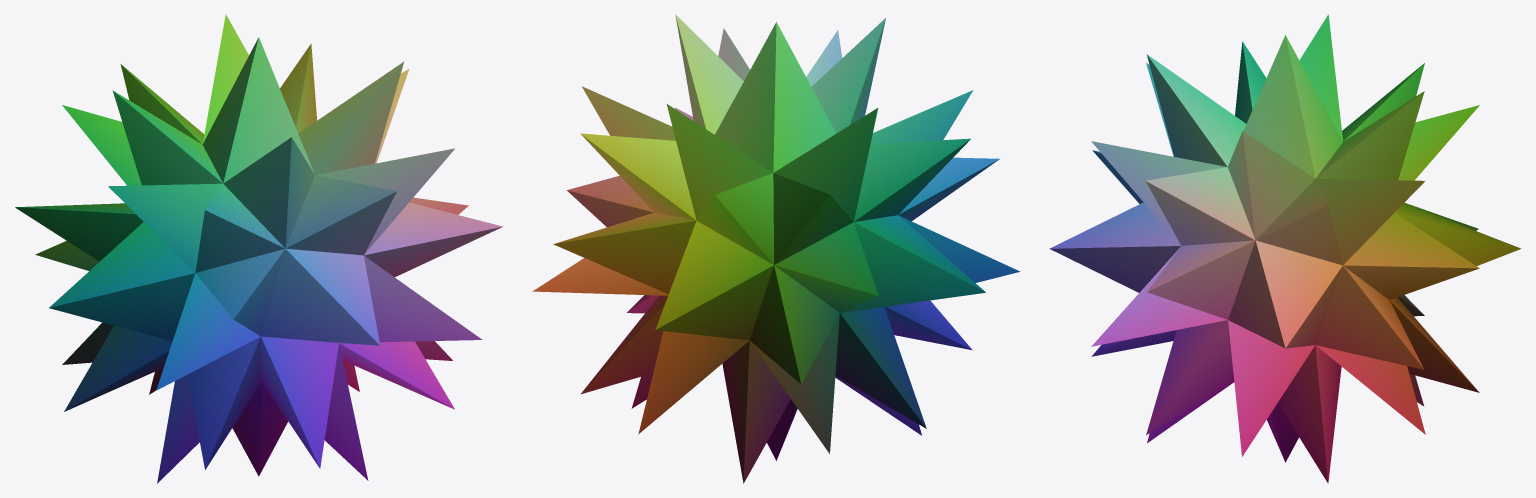
The model's file is zeometry-stars-spikes-spiky-star_v2.glb.
3 views of the same model, side by side, from view 1: azimuth 30°, elevation 25°; view 2: azimuth 150°, elevation 25°; view 3: azimuth 270°, elevation 25° (orthographic). The views are drawn at different scales.
Parts seen in each view (by area): view 1: Spiky Star_v2; view 2: Spiky Star_v2; view 3: Spiky Star_v2.
Boxes of the visible parts, <box> form: Spiky Star_v2: <box>15,14,502,483</box>; Spiky Star_v2: <box>532,14,1020,483</box>; Spiky Star_v2: <box>1049,14,1521,483</box>.
Size of the model in its own units: 0.5 by 0.5 by 0.5.
